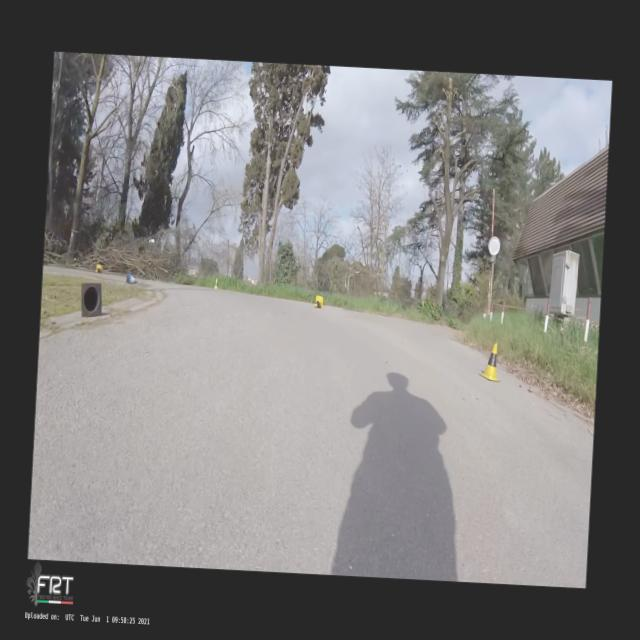blue_cone: (125, 272, 138, 284)
unknown_cone: (80, 282, 104, 318)
yellow_cone: (478, 342, 502, 382), (314, 296, 324, 308), (96, 264, 102, 273), (214, 278, 218, 290)
